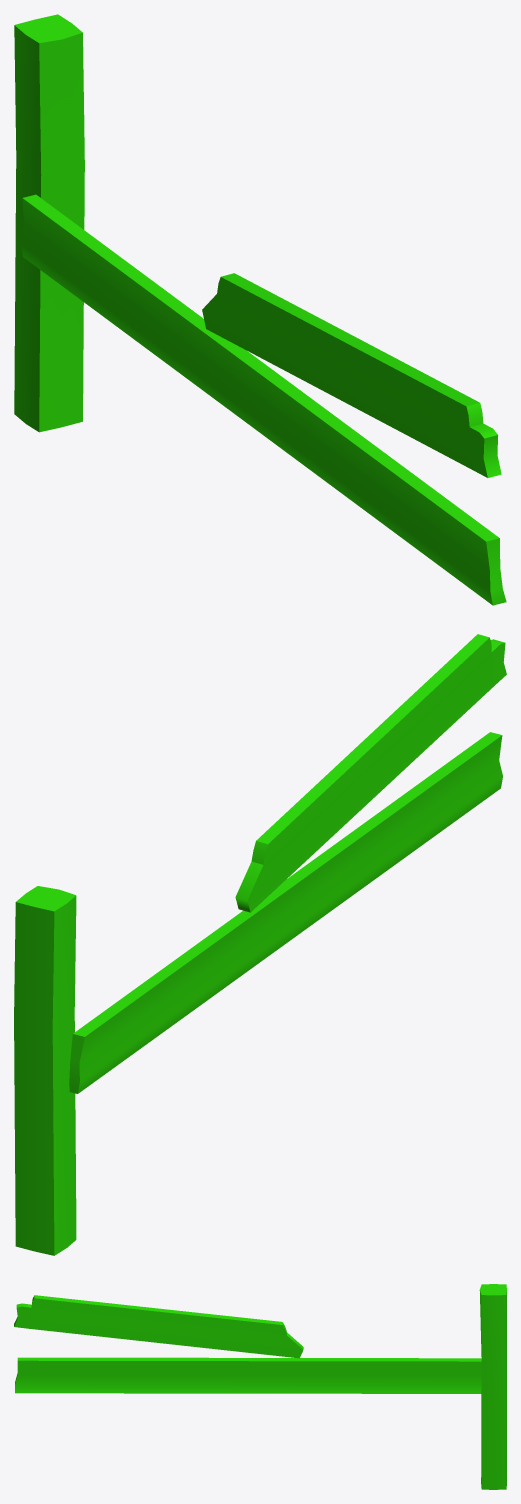
The model's file is Farm_Fence_01E.fbx.
3 views of the same model, one above another, from view 1: azimuth 30°, elevation 25°; view 2: azimuth 150°, elevation 25°; view 3: azimuth 270°, elevation 25° (orthographic). The views are drawn at different scales.
Visible parts, largest first — view 1: Farm_Fence_01E; view 2: Farm_Fence_01E; view 3: Farm_Fence_01E.
Boxes of the visible parts, x1,y1,x2,y2 form: Farm_Fence_01E: (14,14,506,605); Farm_Fence_01E: (14,634,506,1255); Farm_Fence_01E: (14,1284,506,1489).
Size of the model in its own units: 24.17 by 134 by 309.
